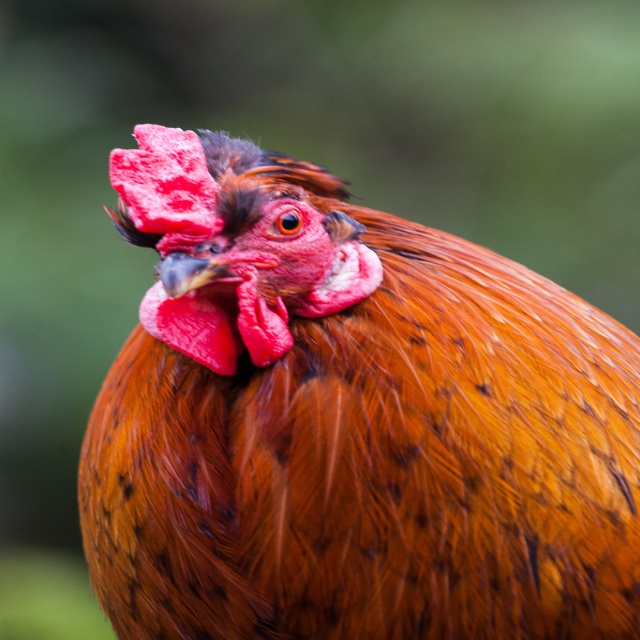Chicken: (76, 123, 640, 640)
